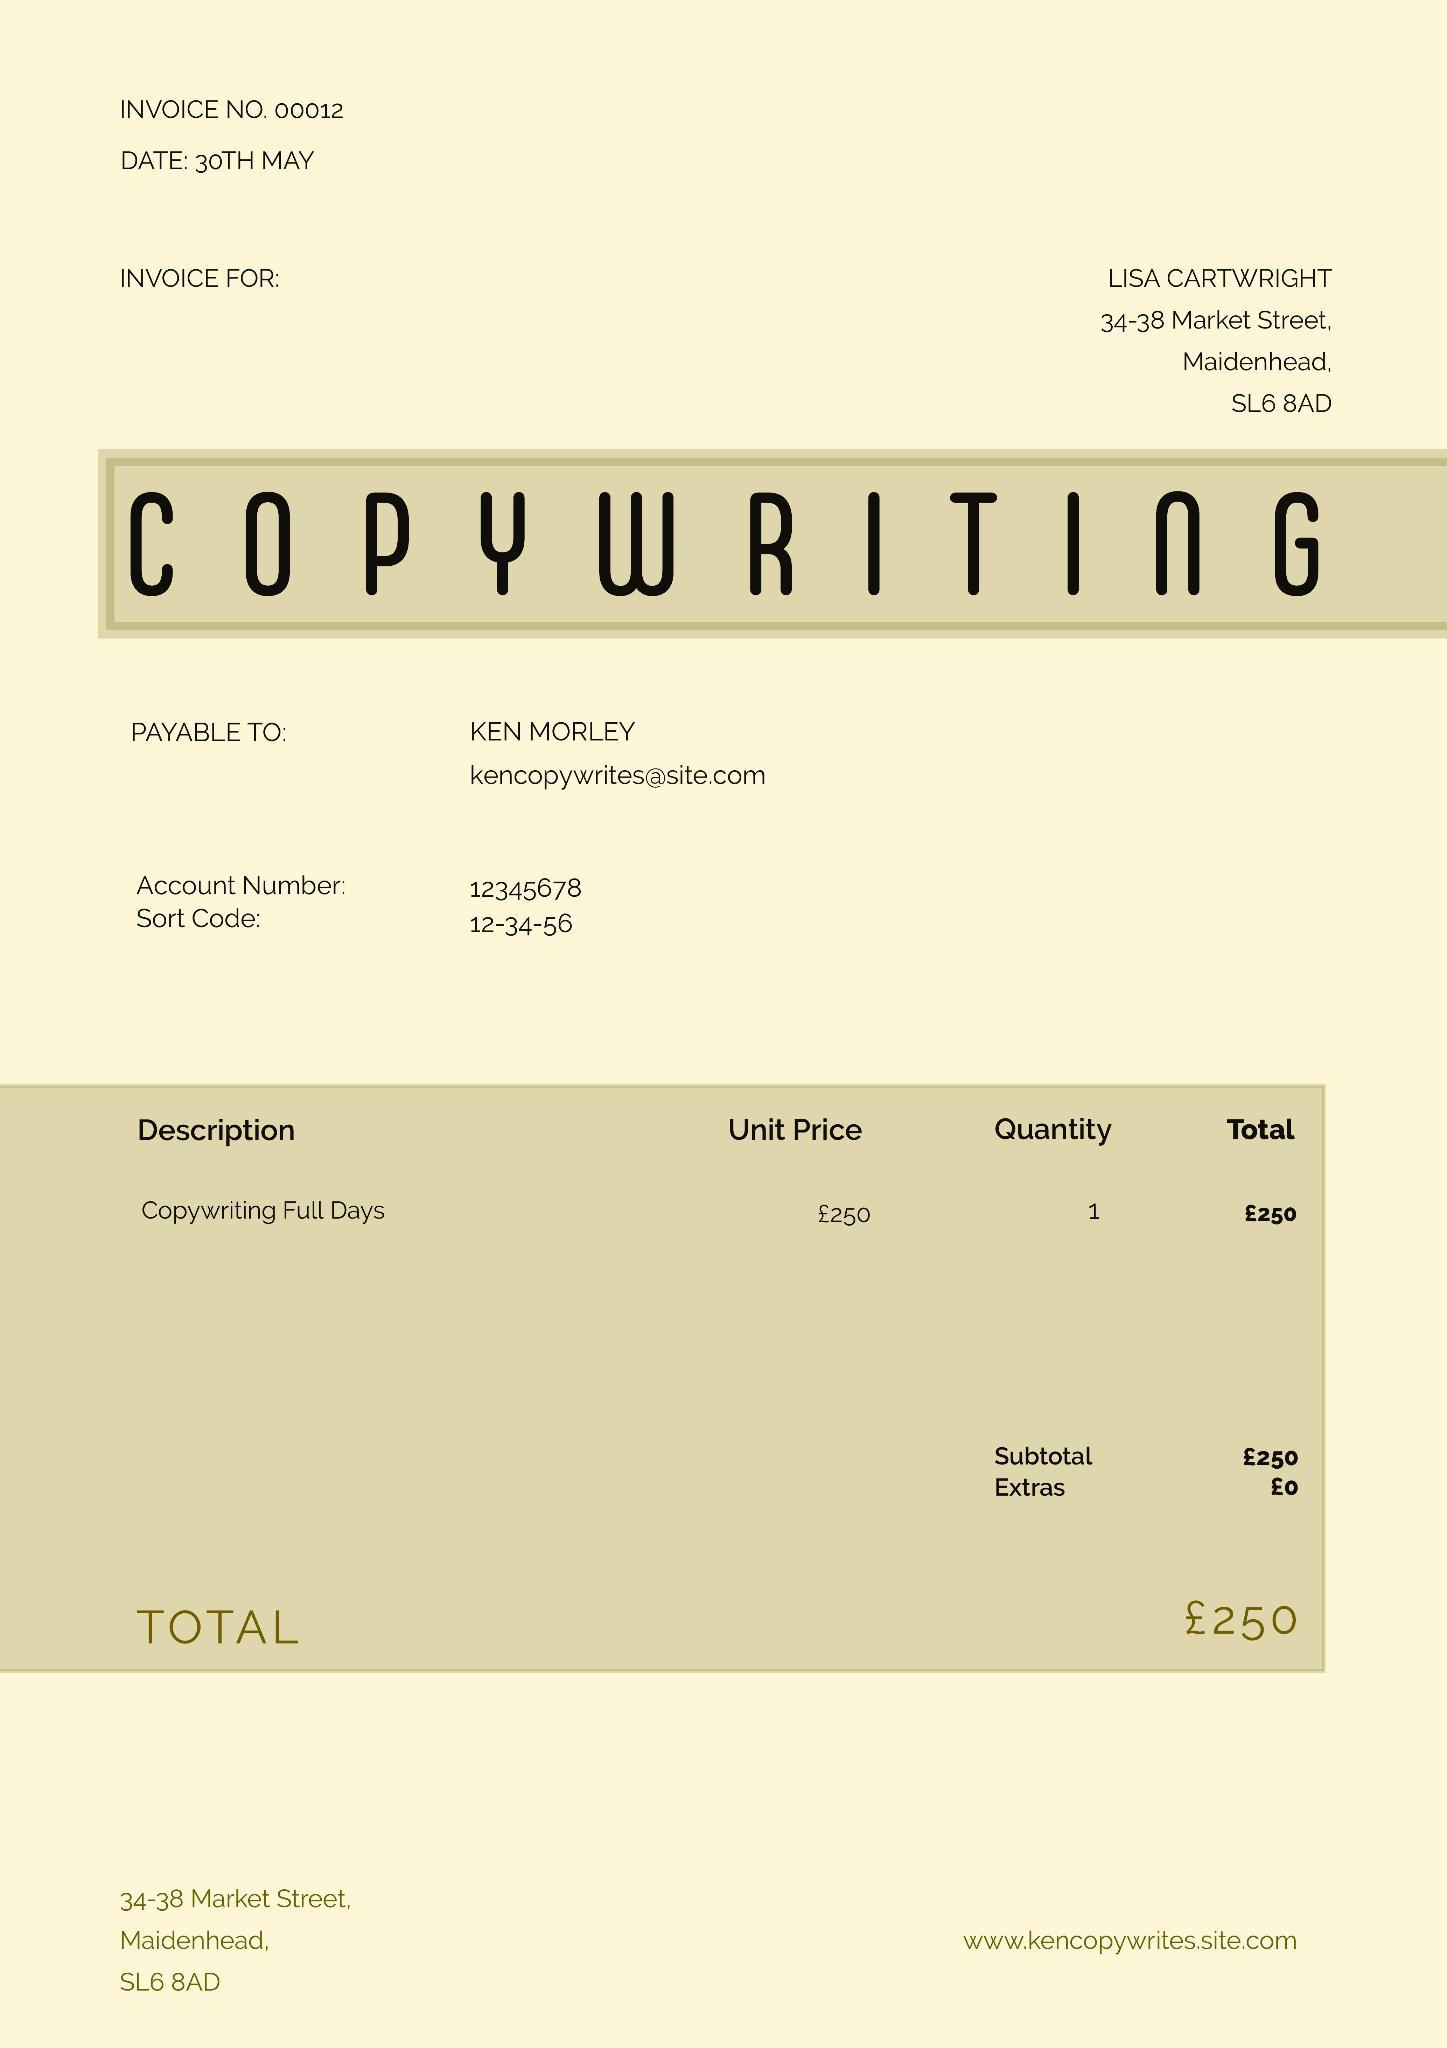ROI: (111, 1085, 1312, 1299), (117, 439, 1358, 637), (90, 1581, 1305, 1664), (107, 688, 786, 822), (107, 853, 642, 957), (1084, 240, 1370, 427), (88, 1864, 369, 2010), (954, 1418, 1316, 1529), (942, 1903, 1309, 1969), (104, 82, 369, 128), (110, 254, 328, 306), (107, 138, 330, 185)
